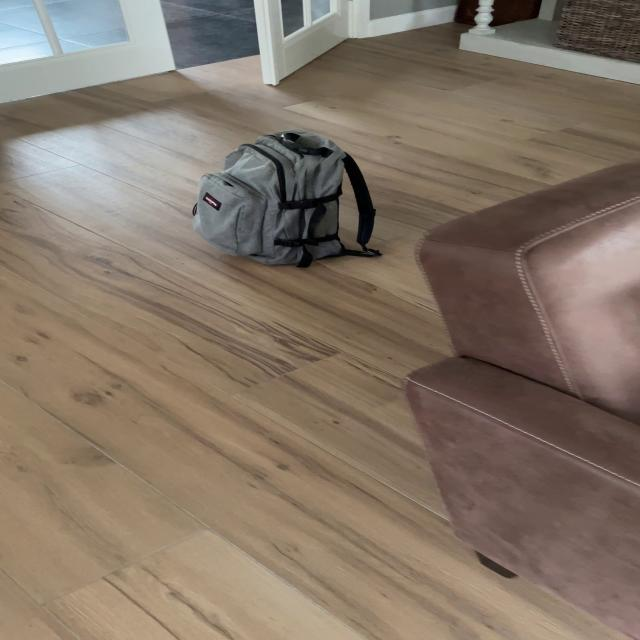backpack: (181, 125, 372, 270)
